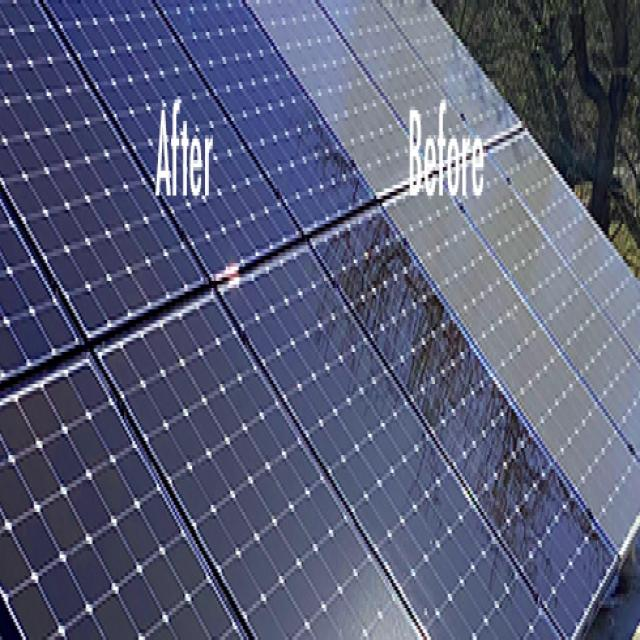clean-solar-panel: (0, 2, 622, 638)
